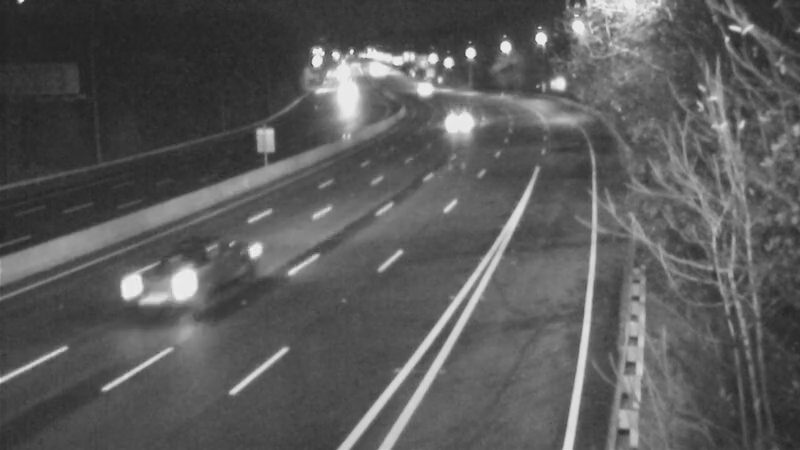vehicle: (124, 248, 204, 328), (398, 65, 448, 115), (432, 101, 482, 151), (319, 74, 369, 124)
